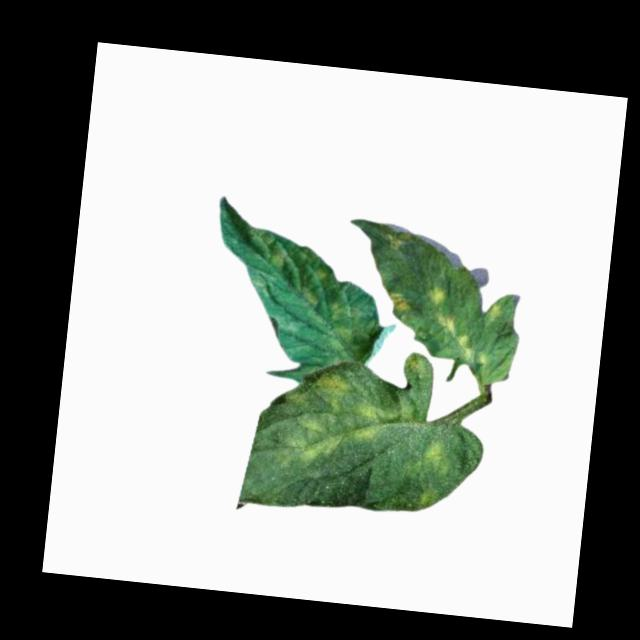Leaf_Mold: (278, 370, 397, 472), (320, 300, 381, 370), (269, 245, 335, 307), (403, 436, 454, 510), (454, 333, 488, 365), (390, 289, 415, 314), (436, 311, 460, 334), (387, 226, 413, 247), (426, 282, 447, 307), (485, 300, 504, 324)
